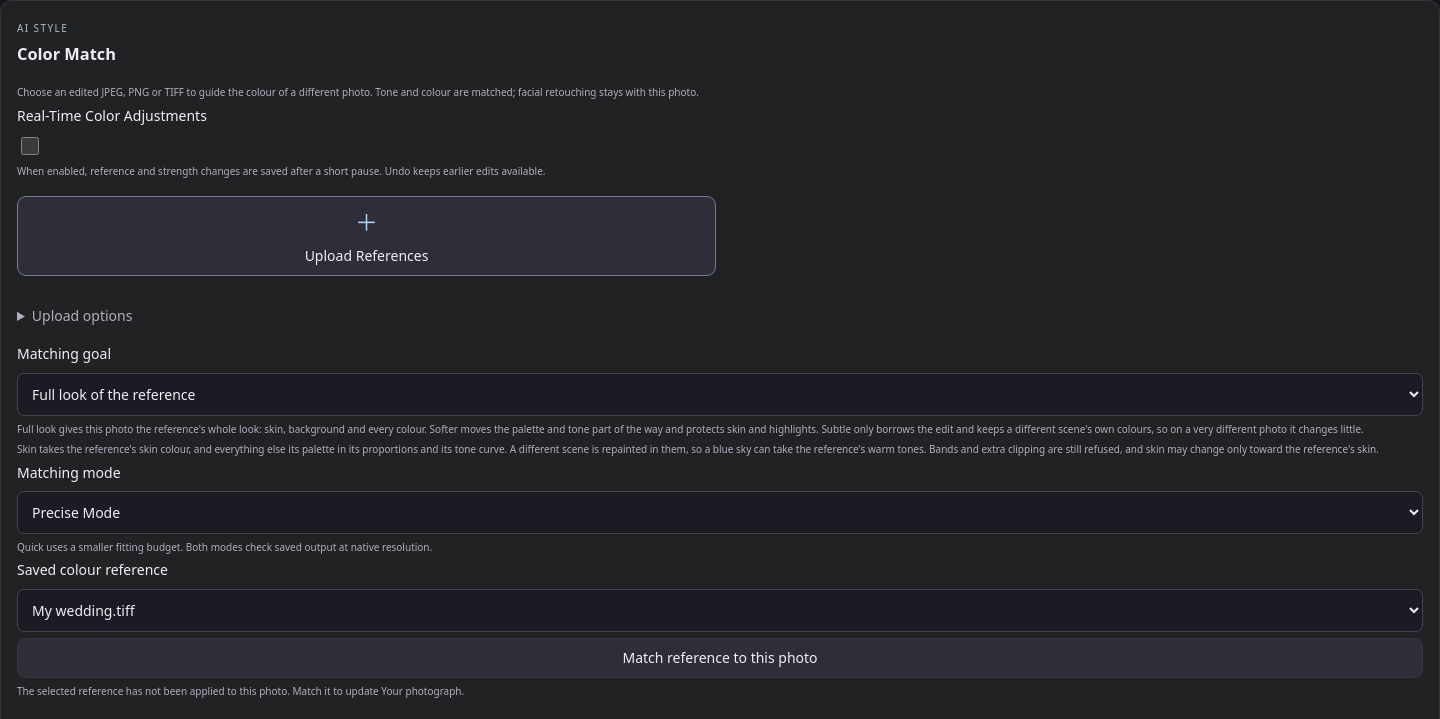
Test: does not report a closer match when native safety retained an unchanged endpoint
Click the button "Match reference to this photo": coordinates (720, 658) [17,638,1423,678]
(page scrolled)
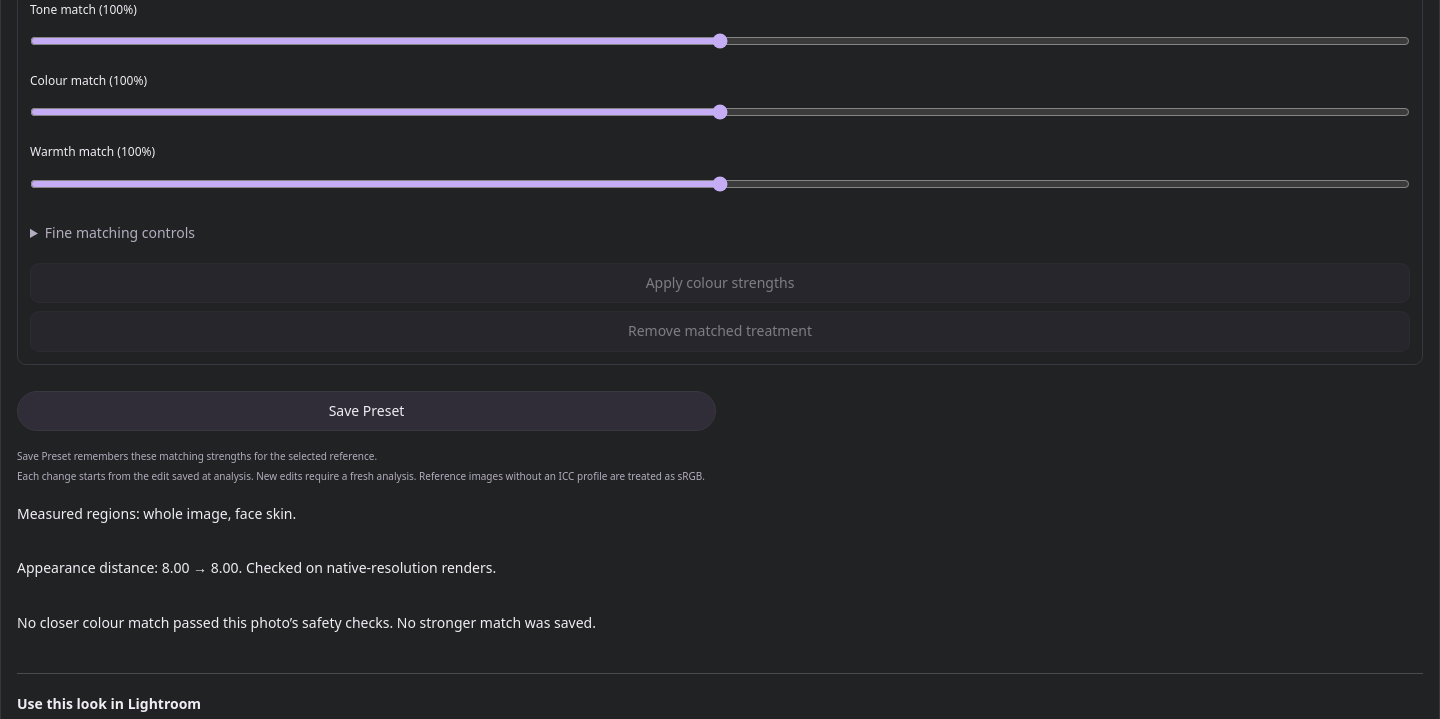
Expected: the text "No closer colour match passed this photo’s safety checks. No stronger match was saved." is shown, [17,613,596,632]
